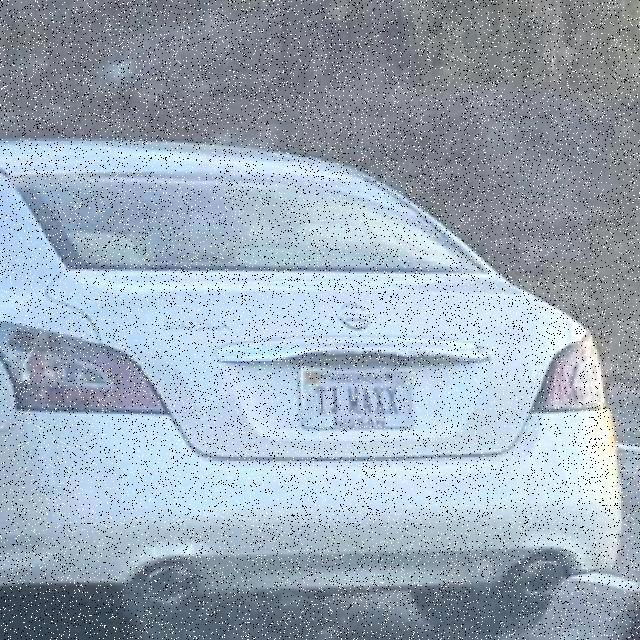LicensePlate: (296, 364, 414, 429)
